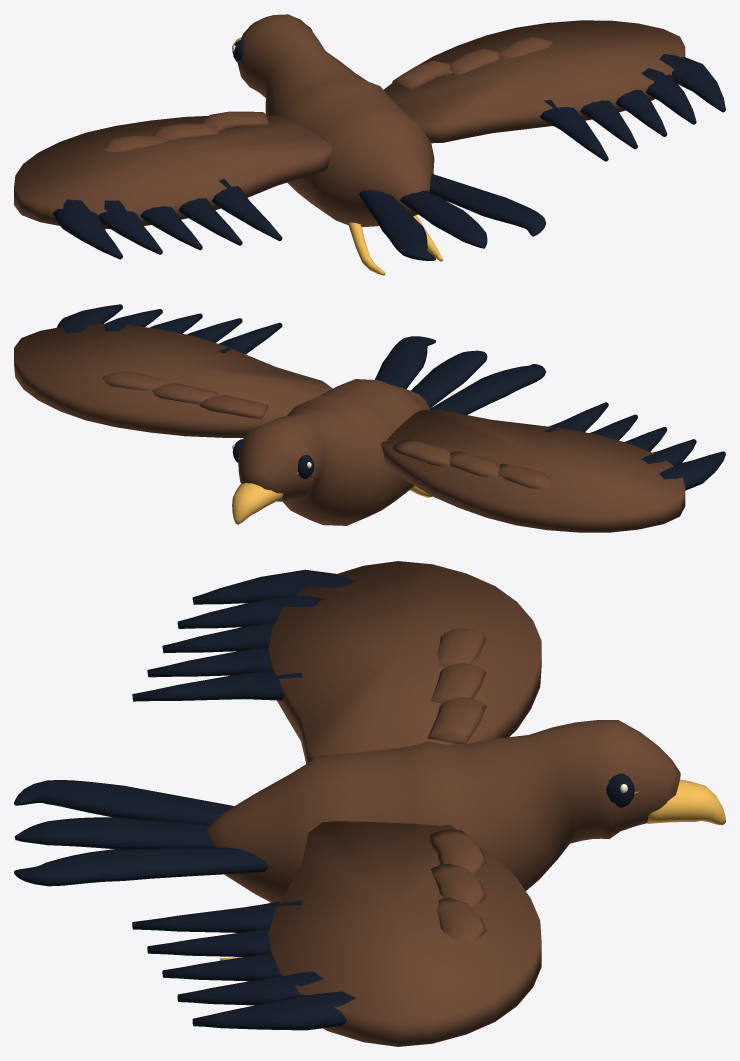
File: Eagle.glb
The picture shows the model from 3 angles, top to bottom: view 1: azimuth 30°, elevation 25°; view 2: azimuth 150°, elevation 25°; view 3: azimuth 270°, elevation 25°; orthographic projection. The views are drawn at different scales.
Parts seen in each view (by area): view 1: Eagle__WingL, Eagle__WingR, Eagle__Body; view 2: Eagle__WingL, Eagle__WingR, Eagle__Body; view 3: Eagle__Body, Eagle__WingR, Eagle__WingL.
Part boxes in pixels (x1=…): Eagle__WingL: x1=14, y1=111, x2=332, y2=259; Eagle__WingR: x1=383, y1=20, x2=725, y2=161; Eagle__Body: x1=232, y1=14, x2=546, y2=275; Eagle__WingL: x1=380, y1=402, x2=725, y2=532; Eagle__WingR: x1=14, y1=304, x2=332, y2=437; Eagle__Body: x1=232, y1=336, x2=545, y2=525; Eagle__Body: x1=14, y1=720, x2=725, y2=960; Eagle__WingR: x1=132, y1=821, x2=541, y2=1046; Eagle__WingL: x1=132, y1=561, x2=541, y2=763.
Bounding box in the file's own units: 2.83 × 0.6297 × 1.85.
Materials: 1 (1 with a texture image).
